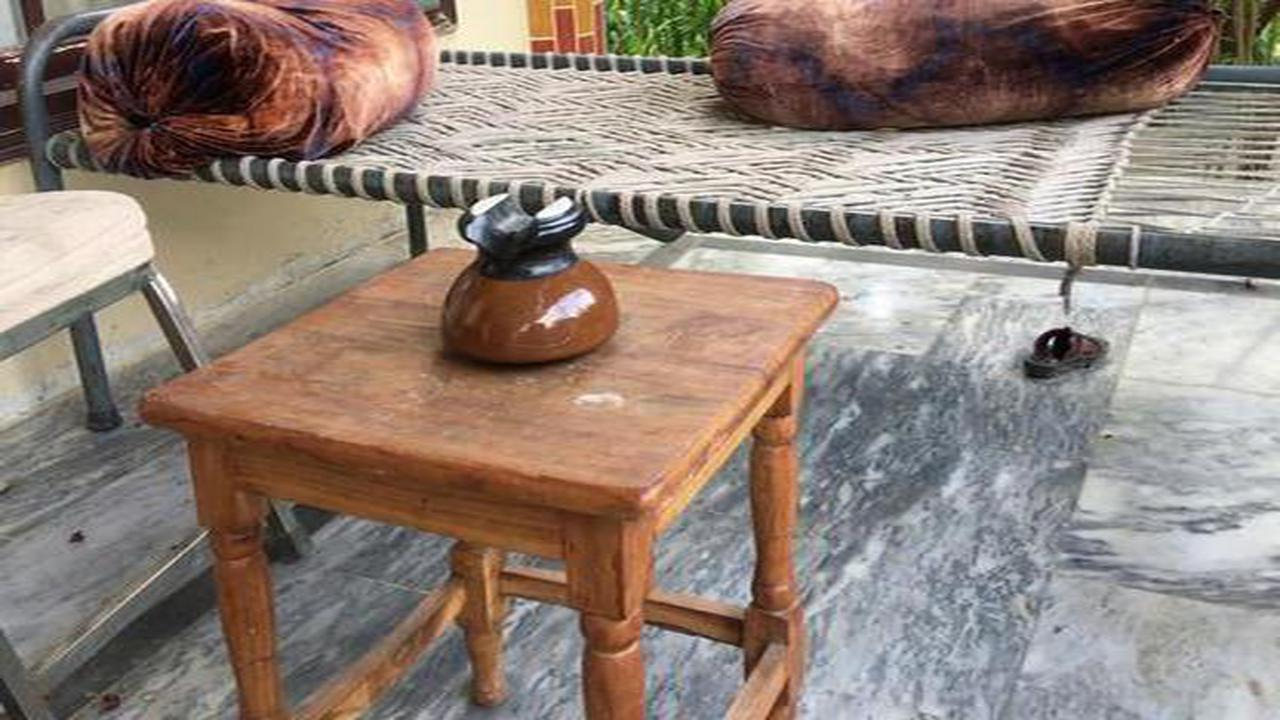insulator_pin: (404, 177, 634, 376)
